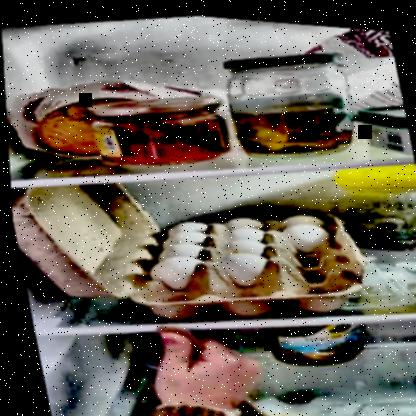eggs: (141, 196, 340, 295)
olives: (339, 185, 415, 249)
